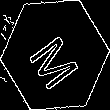M_NE: (25, 22, 85, 88)
